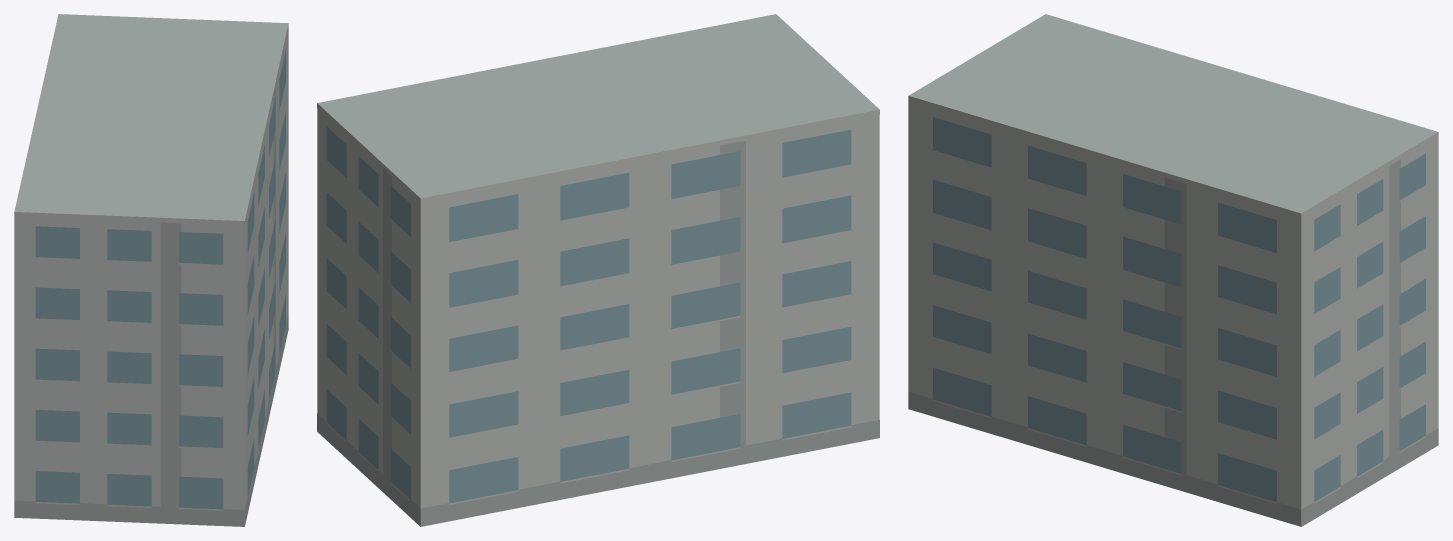
The model's file is residential-739a85e8-7d29-4484-ac96-e23549d11a53.glb.
The picture shows the model from 3 angles, left to right: view 1: azimuth 30°, elevation 25°; view 2: azimuth 150°, elevation 25°; view 3: azimuth 270°, elevation 25°; orthographic projection. The views are drawn at different scales.
Visible parts, largest first — view 1: residential-739a85e8-7d29-4484-ac96-e23549d11a53.tmp; view 2: residential-739a85e8-7d29-4484-ac96-e23549d11a53.tmp; view 3: residential-739a85e8-7d29-4484-ac96-e23549d11a53.tmp.
Part boxes in pixels (x1,y1,x2,y2): residential-739a85e8-7d29-4484-ac96-e23549d11a53.tmp: (14,14,288,526); residential-739a85e8-7d29-4484-ac96-e23549d11a53.tmp: (317,14,879,526); residential-739a85e8-7d29-4484-ac96-e23549d11a53.tmp: (908,14,1438,526).
Bounding box in the file's own units: 20.83 × 15.25 × 23.39.
